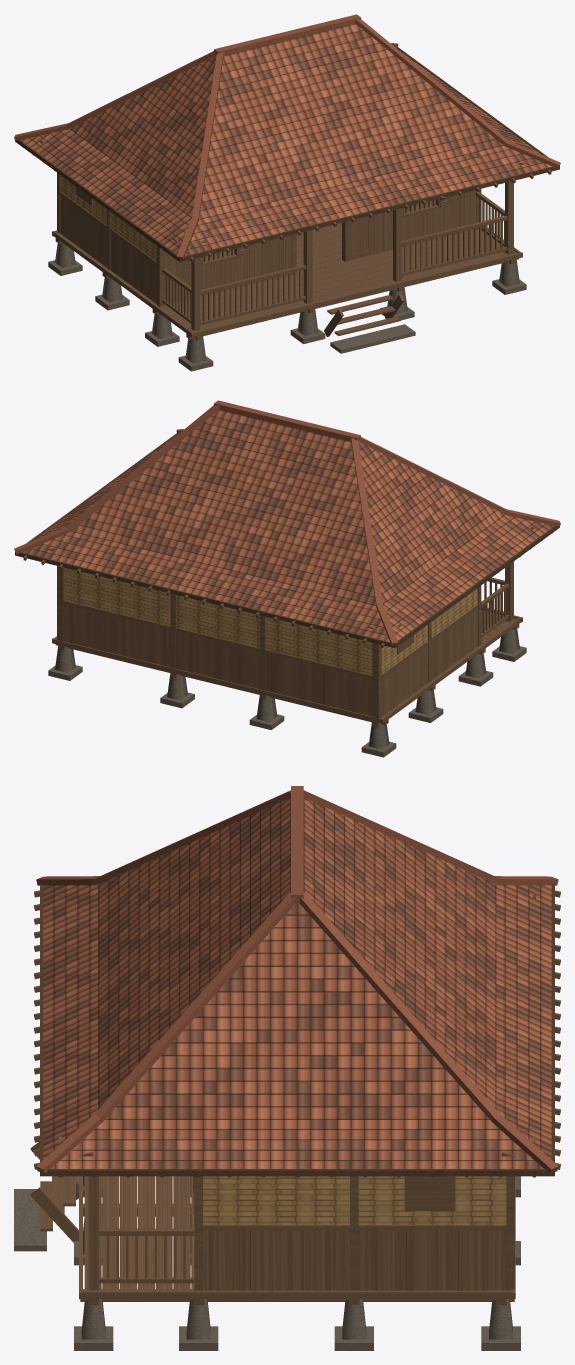
File: 2.Rumah_Tradisional_Banten_1888.glb
3 views of the same model, one above another, from view 1: azimuth 30°, elevation 25°; view 2: azimuth 150°, elevation 25°; view 3: azimuth 270°, elevation 25° (orthographic). The views are drawn at different scales.
Parts seen in each view (by area): view 1: Roof_UpperMainTier, Roof_LowerEavesTier, Cabin_Walls_Doors_Windows, Timber_FloorPlatform, Structural_Posts_And_Veranda, Terracotta_Limasan_Hip_Roof, Foundation_UmpakStones, Front_Staircase, Roof_TopRidge, Exposed_Eaves_Rafters; view 2: Roof_UpperMainTier, Cabin_Walls_Doors_Windows, Roof_LowerEavesTier, Terracotta_Limasan_Hip_Roof, Foundation_UmpakStones, Timber_FloorPlatform, Structural_Posts_And_Veranda, Roof_TopRidge, Exposed_Eaves_Rafters; view 3: Roof_UpperMainTier, Roof_LowerEavesTier, Cabin_Walls_Doors_Windows, Terracotta_Limasan_Hip_Roof, Timber_FloorPlatform, Foundation_UmpakStones, Structural_Posts_And_Veranda, Front_Staircase, Exposed_Eaves_Rafters, Roof_TopRidge.
Boxes of the visible parts, box(x1,y1,x2,y2) form: Roof_UpperMainTier: box(69, 23, 503, 219); Roof_LowerEavesTier: box(21, 49, 551, 255); Cabin_Walls_Doors_Windows: box(57, 172, 481, 306); Timber_FloorPlatform: box(52, 200, 522, 340); Structural_Posts_And_Veranda: box(162, 181, 513, 331); Terracotta_Limasan_Hip_Roof: box(14, 19, 560, 261); Foundation_UmpakStones: box(48, 243, 526, 371); Front_Staircase: box(324, 294, 415, 353); Roof_TopRidge: box(214, 14, 360, 55); Exposed_Eaves_Rafters: box(22, 140, 551, 261); Roof_UpperMainTier: box(71, 409, 505, 605); Cabin_Walls_Doors_Windows: box(57, 566, 481, 718); Roof_LowerEavesTier: box(23, 435, 553, 641); Terracotta_Limasan_Hip_Roof: box(14, 405, 560, 647); Foundation_UmpakStones: box(48, 629, 526, 757); Timber_FloorPlatform: box(52, 610, 522, 726); Structural_Posts_And_Veranda: box(481, 561, 513, 637); Roof_TopRidge: box(214, 400, 360, 441); Exposed_Eaves_Rafters: box(23, 526, 552, 647); Roof_UpperMainTier: box(98, 798, 496, 1119); Roof_LowerEavesTier: box(43, 884, 551, 1168); Cabin_Walls_Doors_Windows: box(193, 1176, 514, 1290); Terracotta_Limasan_Hip_Roof: box(36, 790, 558, 1176); Timber_FloorPlatform: box(79, 1176, 515, 1304); Foundation_UmpakStones: box(74, 1176, 520, 1350); Structural_Posts_And_Veranda: box(88, 1176, 193, 1290); Front_Staircase: box(14, 1141, 84, 1251); Exposed_Eaves_Rafters: box(34, 890, 560, 1177); Roof_TopRidge: box(291, 786, 303, 902).
Bounding box in the file's own units: 8.78 × 5.34 × 6.93.
Materials: 8 (7 with a texture image).
